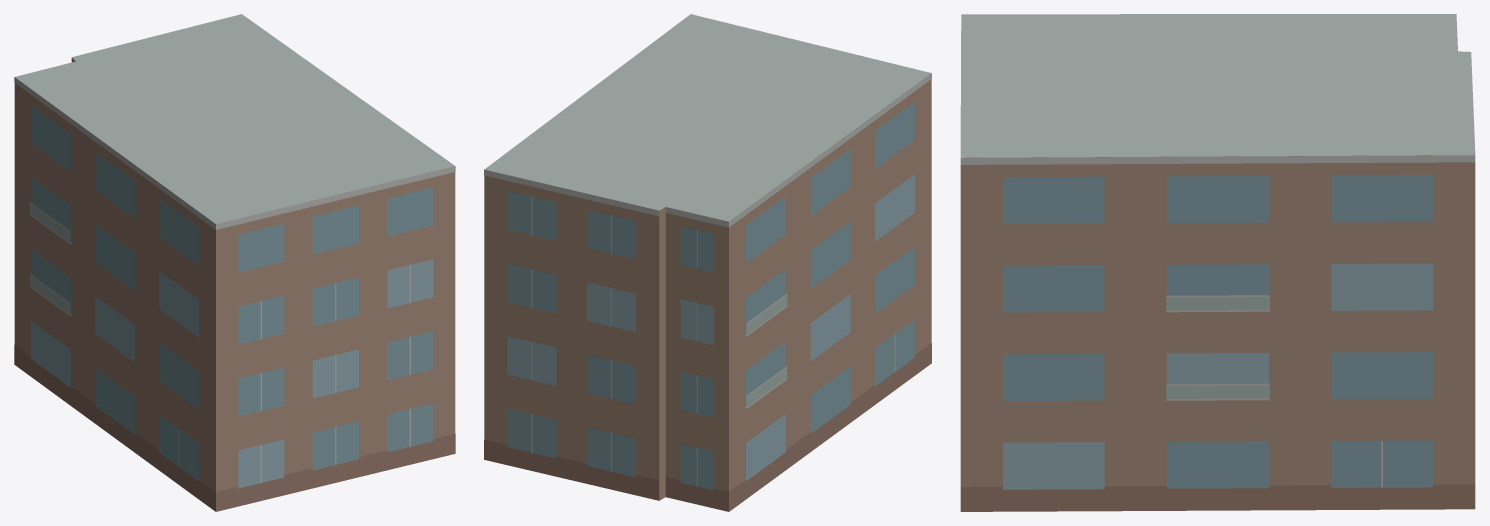
File: survey-upis-32703130.glb
3 views of the same model, side by side, from view 1: azimuth 30°, elevation 25°; view 2: azimuth 150°, elevation 25°; view 3: azimuth 270°, elevation 25° (orthographic). The views are drawn at different scales.
Visible parts, largest first — view 1: survey-upis-32703130.tmp; view 2: survey-upis-32703130.tmp; view 3: survey-upis-32703130.tmp.
Part boxes in pixels (x1=…): survey-upis-32703130.tmp: x1=14, y1=14, x2=455, y2=511; survey-upis-32703130.tmp: x1=484, y1=14, x2=931, y2=511; survey-upis-32703130.tmp: x1=960, y1=14, x2=1475, y2=511.
Bounding box in the file's own units: 10.58 × 12.1 × 15.96.
